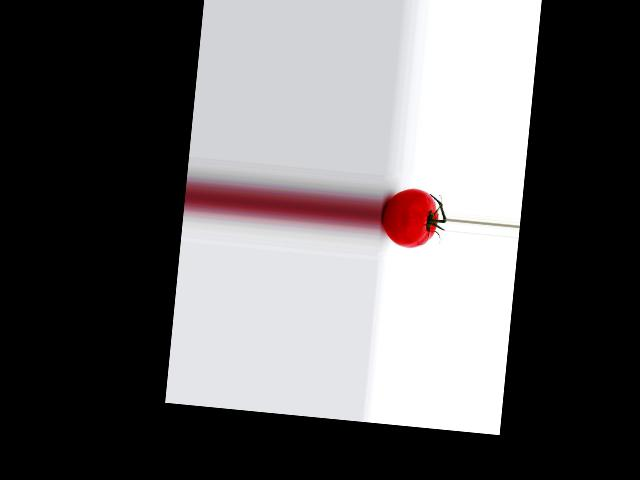tomato: (379, 186, 440, 251)
